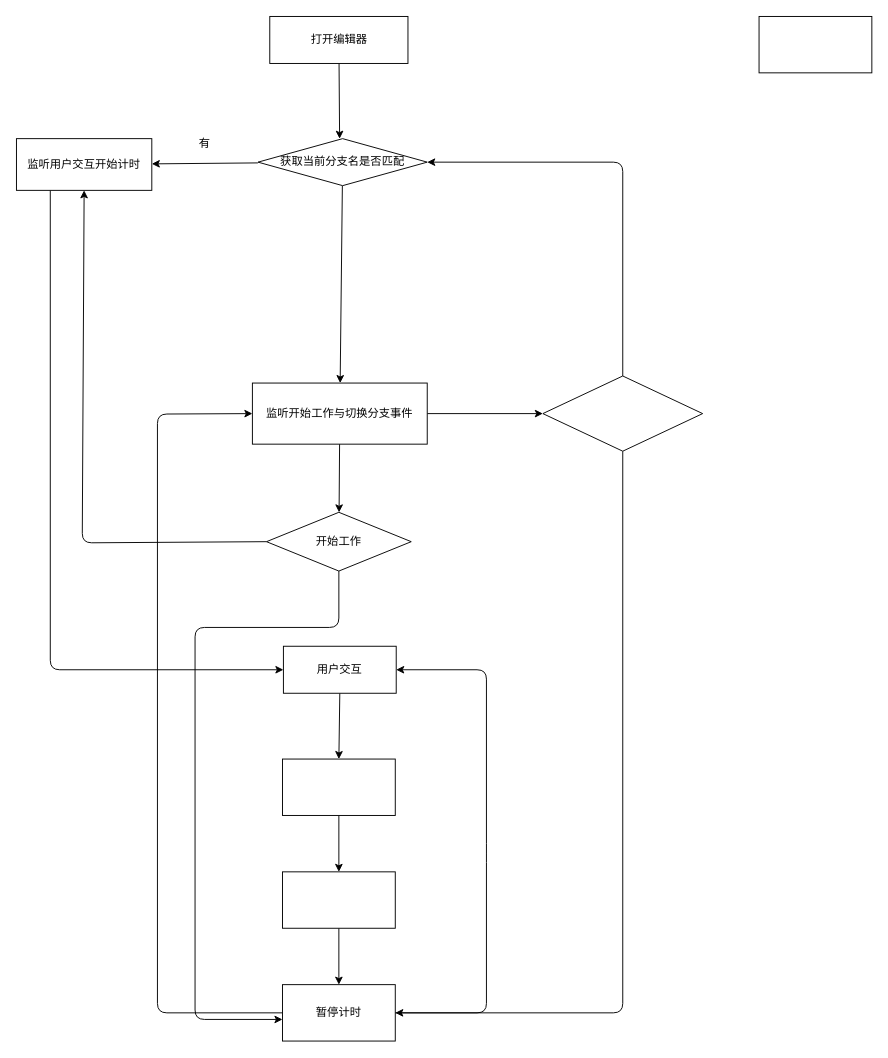
Image size: 888x1058. Some labels were removed from this diagram. Here are the shapes that lost their labels. From the top down, the box of each, then its label:
(542, 375, 703, 451): 切换分支
(282, 758, 395, 815): 最后激活时间
(282, 871, 395, 928): 空闲时间大于阈值
